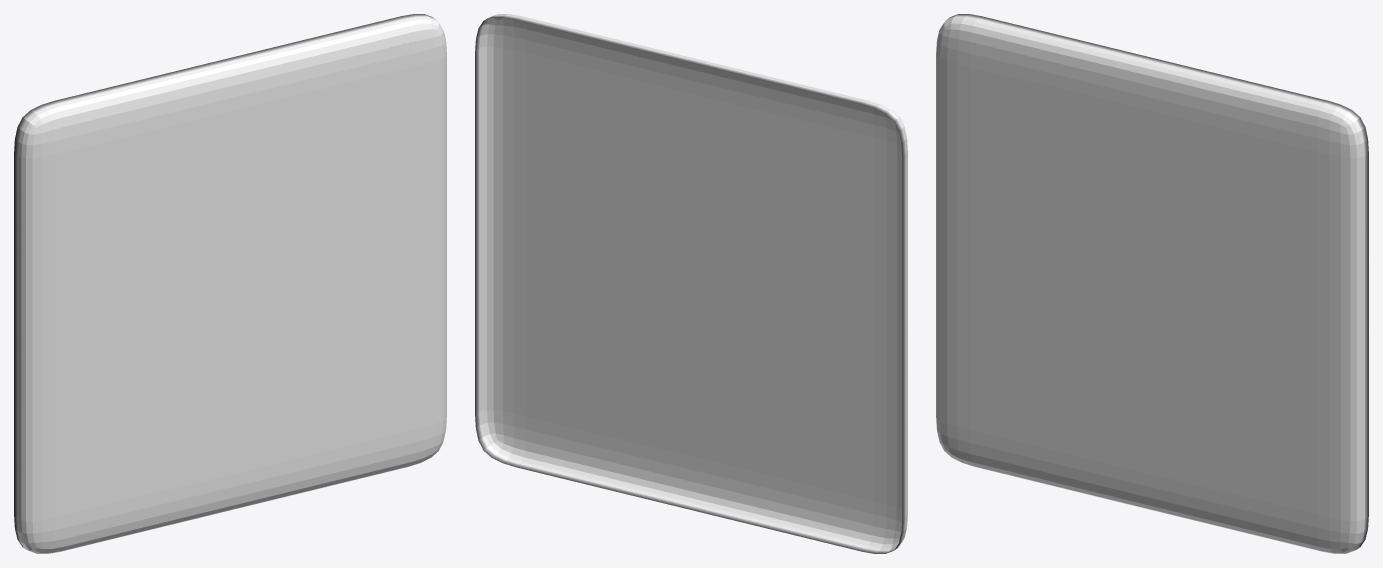
Rendered from panel.dae.
3 views of the same model, side by side, from view 1: azimuth 30°, elevation 25°; view 2: azimuth 150°, elevation 25°; view 3: azimuth 330°, elevation 25° (orthographic).
Visible parts, largest first — view 1: Cube; view 2: Cube; view 3: Cube.
Boxes of the visible parts, <box> form: Cube: <box>14,14,446,553</box>; Cube: <box>475,14,907,553</box>; Cube: <box>936,14,1368,553</box>.
Bounding box in the file's own units: 1 × 0.0485 × 1.
Materials: 1 (1 with a texture image).
